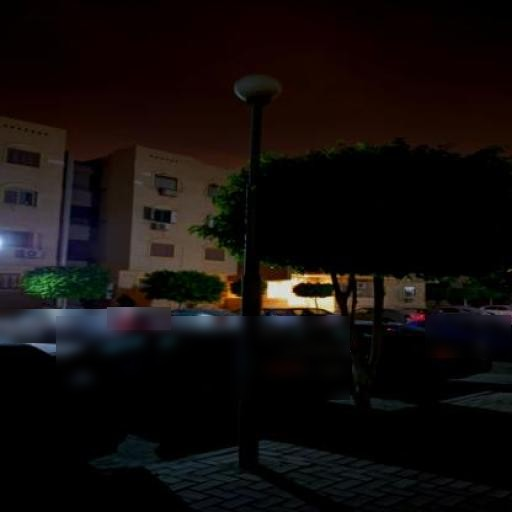acesa: (0, 236, 5, 250)
apagada: (232, 71, 284, 109)
